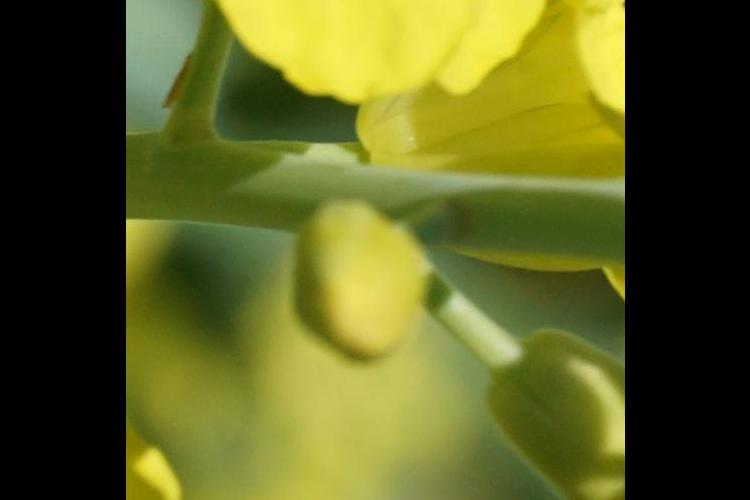bud: (297, 199, 438, 358), (497, 353, 618, 500)
yellow: (365, 1, 616, 247), (183, 1, 552, 113)
